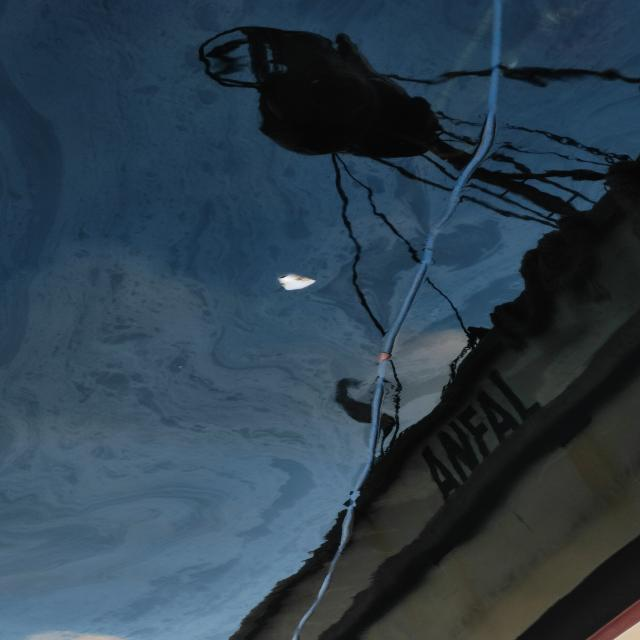Plastic cup: (276, 272, 317, 292)
